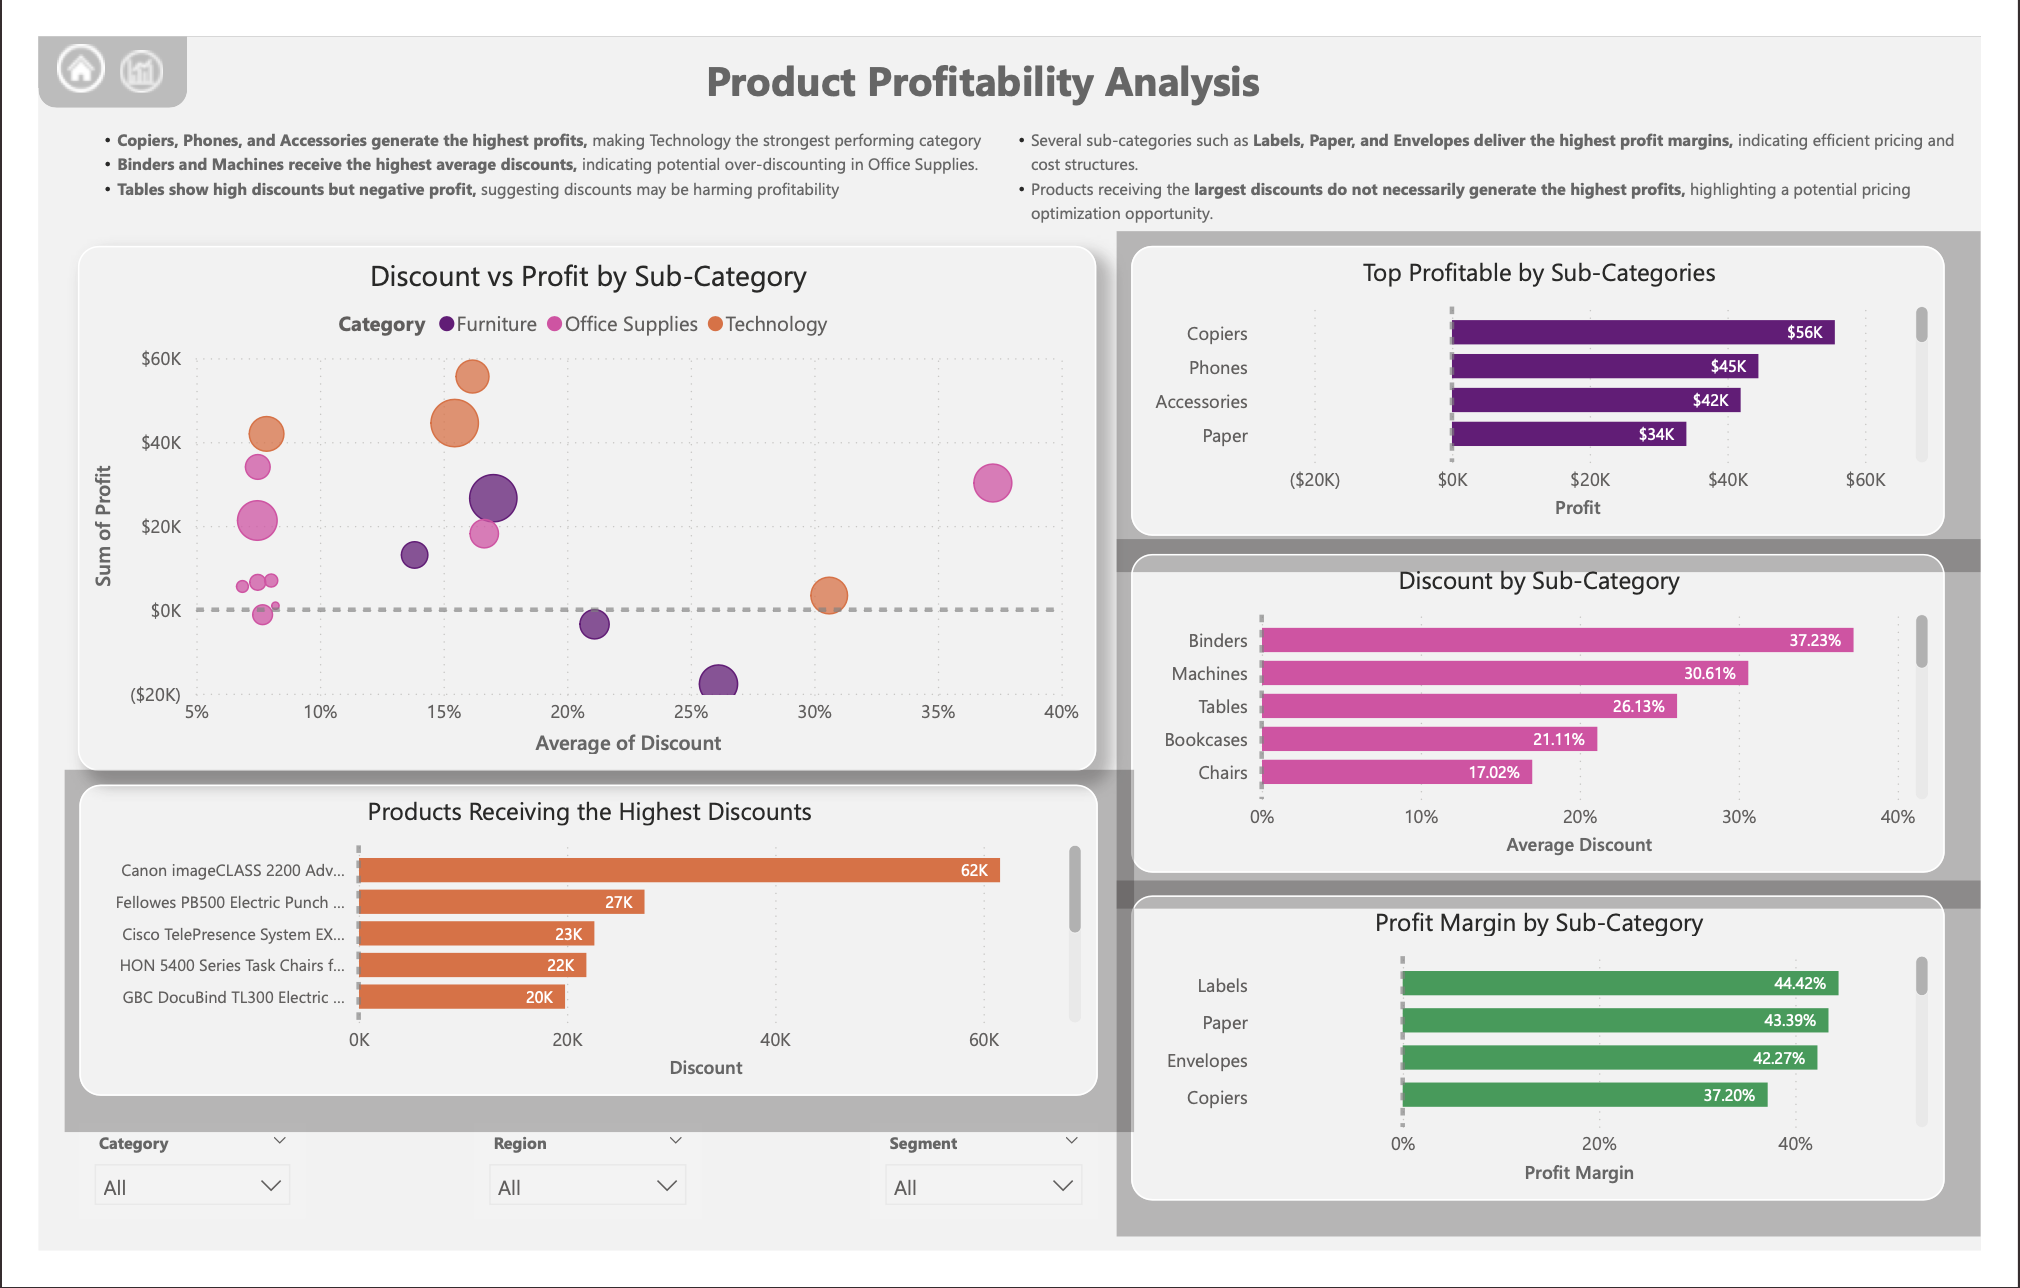

What the dashboard file says about the page in this screenshot:
{"tool":"powerbi","page":{"name":"Disc. Impact","canvas":[1280,800],"ordinal":1},"visuals":[{"type":"shape","box":[0,0,98,47.4],"z":0},{"type":"scatterChart","title":"Discount vs Profit by Sub-Category","fields":{"X":["Avg(Orders.Discount)"],"Y":["Sum(Orders.Profit)"],"Size":["Sum(Orders.Sales)"],"Series":["Orders.Category"],"Category":["Orders.Sub-Category"]},"box":[26.4,138.2,670.9,345.5],"z":1000},{"type":"barChart","title":"Top Profitable by Sub-Categories","fields":{"Y":["Sum(Orders.Profit)"],"Category":["Orders.Sub-Category"]},"box":[720,138.2,536.4,190.9],"z":2000},{"type":"barChart","title":"Discount by Sub-Category","fields":{"Category":["Orders.Sub-Category"],"Y":["Avg(Orders.Discount)"]},"box":[720,340.9,536.4,210],"z":3000},{"type":"slicer","fields":{"Values":["Orders.Category"]},"box":[26.7,715.8,149.2,63.3],"z":4000},{"type":"slicer","fields":{"Values":["Orders.Region"]},"box":[287.5,715.8,149.2,63.3],"z":5000},{"type":"slicer","fields":{"Values":["Orders.Segment"]},"box":[548.3,715.8,149.2,63.3],"z":6000},{"type":"barChart","title":"Profit Margin by Sub-Category","fields":{"Category":["Orders.Sub-Category"],"Y":["Orders.Profit Margin"]},"box":[720,566.4,536.4,200.9],"z":7000},{"type":"clusteredBarChart","title":"Products Receiving the Highest Discounts","fields":{"Category":["Orders.Product Name"],"Y":["Sum(Orders.Sales)"]},"box":[26.7,493.3,670.8,204.2],"z":8000},{"type":"actionButton","box":[8.3,0.6,41.7,40],"z":9000},{"type":"actionButton","box":[50,4.8,39.9,35.7],"z":10000},{"type":"textbox","box":[350,4.5,544.5,55.5],"z":10001},{"type":"textbox","box":[29.1,53.6,610.9,73.6],"z":10002},{"type":"textbox","box":[630.9,53.6,649.1,80],"z":10003}]}

Visuals, with their boxes in screenshot pixels (x1, y1, x2, y2), scaled from the page's 1280x800 canvas onto the 2020x1288 screenshot:
shape: BBox(0, 0, 155, 76)
"Discount vs Profit by Sub-Category" scatterChart: BBox(42, 223, 1100, 779)
"Top Profitable by Sub-Categories" barChart: BBox(1136, 223, 1983, 530)
"Discount by Sub-Category" barChart: BBox(1136, 549, 1983, 887)
slicer - Orders.Category: BBox(42, 1152, 278, 1254)
slicer - Orders.Region: BBox(454, 1152, 689, 1254)
slicer - Orders.Segment: BBox(865, 1152, 1101, 1254)
"Profit Margin by Sub-Category" barChart: BBox(1136, 912, 1983, 1235)
"Products Receiving the Highest Discounts" clusteredBarChart: BBox(42, 794, 1101, 1123)
actionButton: BBox(13, 1, 79, 65)
actionButton: BBox(79, 8, 142, 65)
textbox: BBox(552, 7, 1412, 97)
textbox: BBox(46, 86, 1010, 205)
textbox: BBox(996, 86, 2019, 215)
